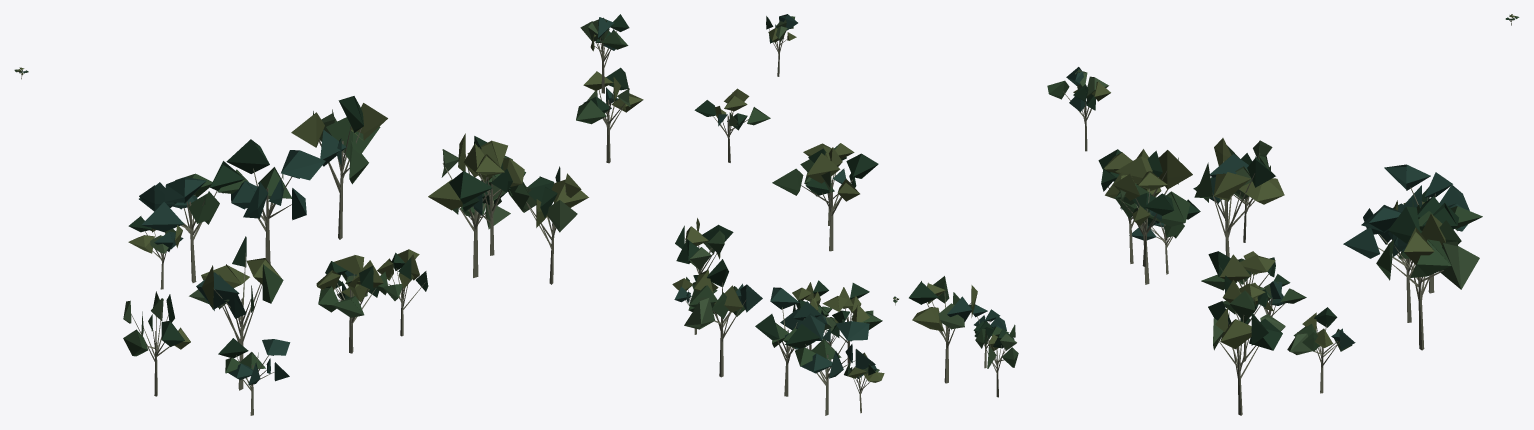
Rendered from forest_24_25.dae.
3 renders of one model, left to right at view 1: azimuth 30°, elevation 25°; view 2: azimuth 150°, elevation 25°; view 3: azimuth 270°, elevation 25°, orthographic. The views are drawn at different scales.
Parts seen in each view (by area): view 1: Node; view 2: Node; view 3: Node.
Boxes of the visible parts, <box> form: Node: <box>14,14,643,415</box>; Node: <box>672,14,1018,415</box>; Node: <box>1047,14,1519,415</box>.
Size of the model in its own units: 11.12 by 9.91 by 8.24.
